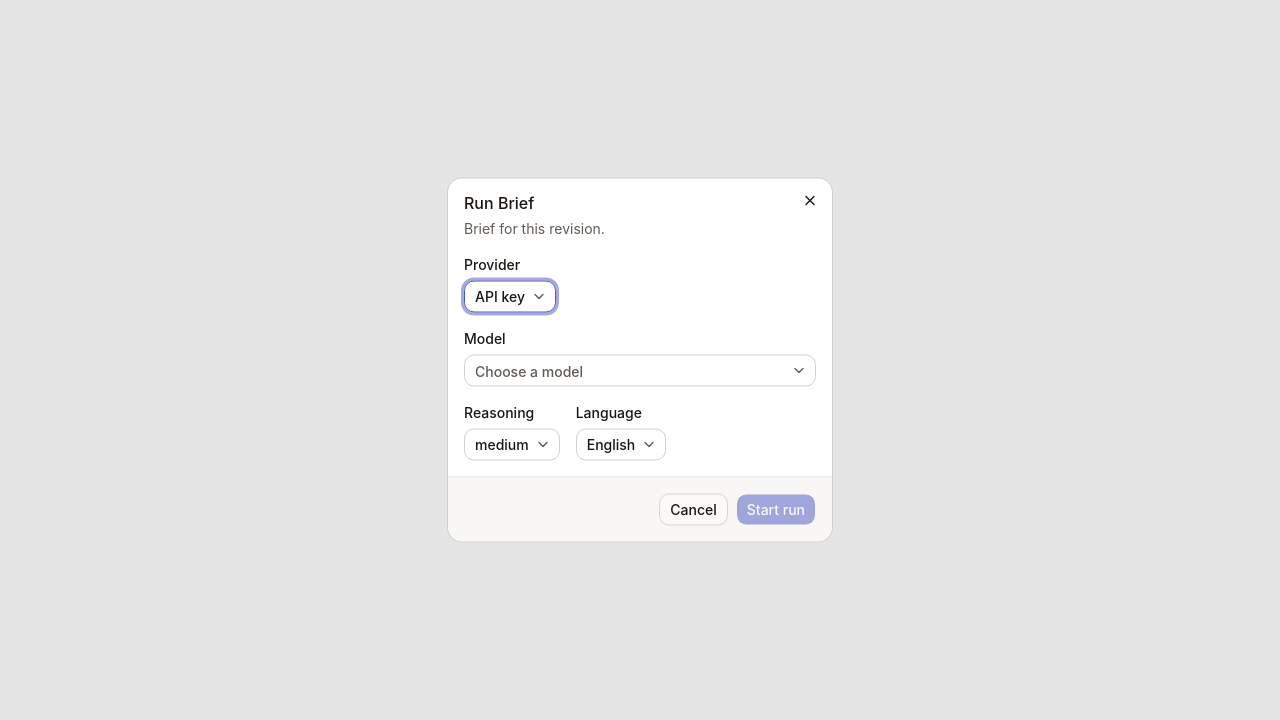
Test: InsightRunDialog model picker › reports no results and exposes the reasoning and model labels
Expected: the dropdown named "Insight reasoning" is shown, top-left (464, 428), bottom-right (560, 460)
Type "not-a-model" into the dropdown named "Insight model" at [640, 370], box top-left (465, 356), bottom-right (815, 386)
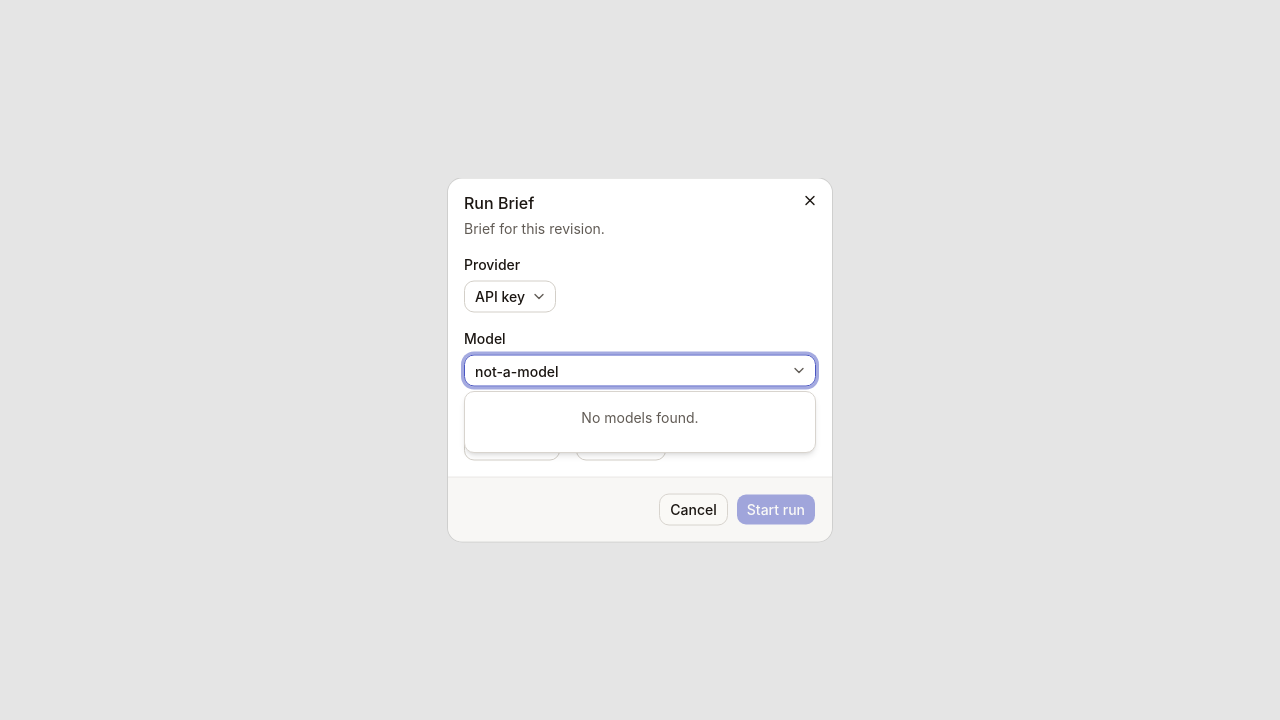
Expected: the text "No models found." is shown, top-left (581, 409), bottom-right (699, 426)
